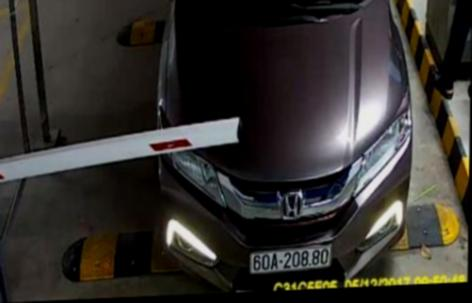License_Plate: (241, 244, 335, 276)
